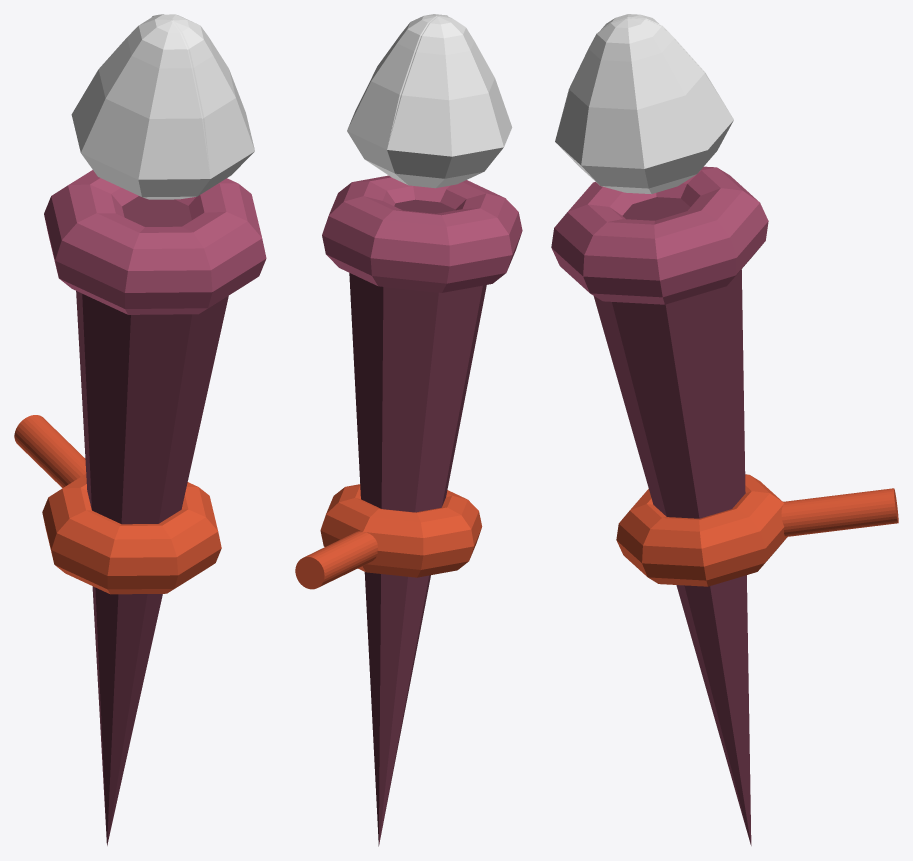
Rendered from torch.fbx.
The picture shows the model from 3 angles, left to right: view 1: azimuth 30°, elevation 25°; view 2: azimuth 150°, elevation 25°; view 3: azimuth 270°, elevation 25°; orthographic projection. The views are drawn at different scales.
Parts seen in each view (by area): view 1: Torch.001; view 2: Torch.001; view 3: Torch.001.
Boxes of the visible parts, box(x1,y1,x2,y2) form: Torch.001: box(14, 14, 266, 845); Torch.001: box(295, 14, 522, 846); Torch.001: box(551, 14, 898, 845).
Size of the model in its own units: 49.3 by 206 by 78.09.
